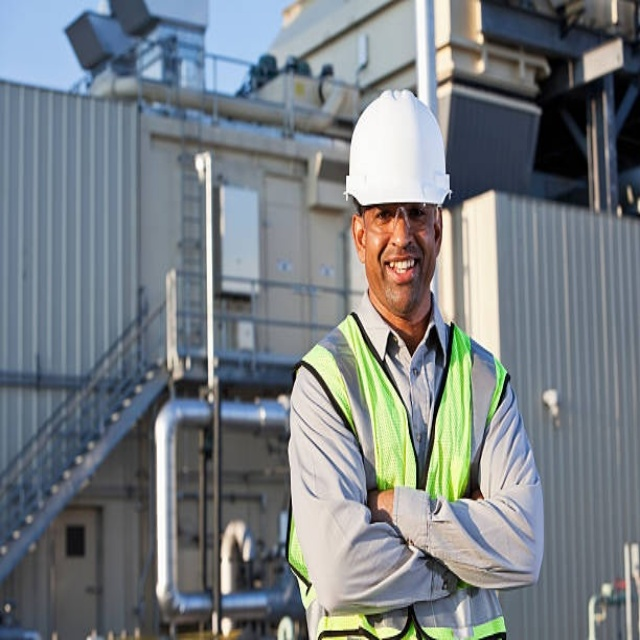Gafas: (362, 202, 439, 233)
Sin_mascara: (381, 249, 426, 298)
